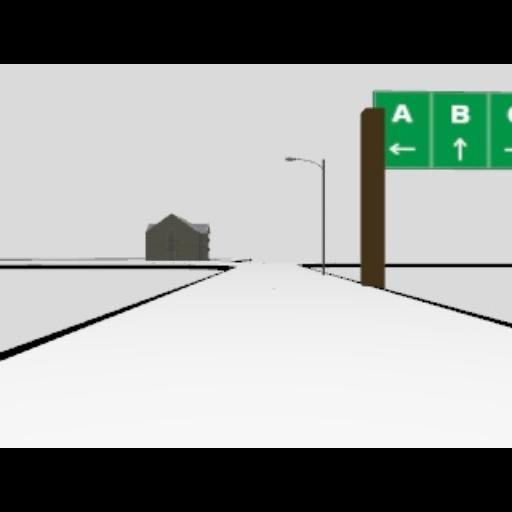A: (391, 102, 413, 124)
B: (450, 104, 468, 124)
Left: (386, 142, 416, 156)
Straight: (453, 136, 467, 160)
